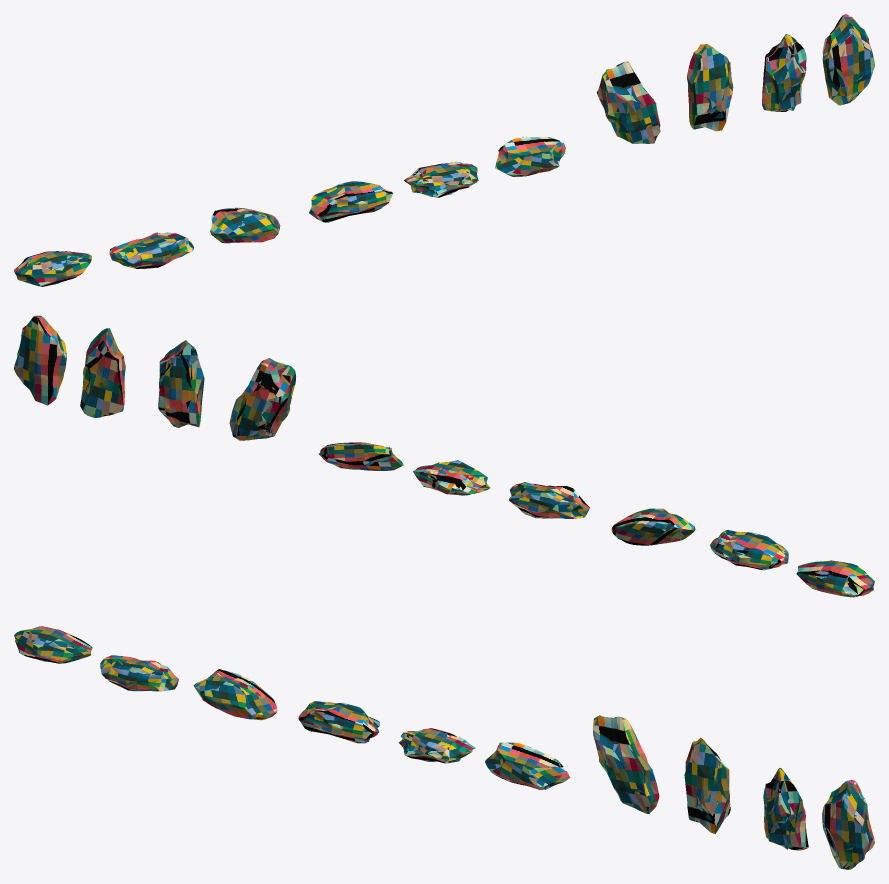
The model's file is boss_rocks.FBX.
3 renders of one model, top to bottom at view 1: azimuth 30°, elevation 25°; view 2: azimuth 150°, elevation 25°; view 3: azimuth 330°, elevation 25°, orthographic.
Visible parts, largest first — view 1: GeoSphere006, GeoSphere009, GeoSphere007, GeoSphere008, GeoSphere011, GeoSphere013, GeoSphere004, GeoSphere005, GeoSphere003, GeoSphere012; view 2: GeoSphere006, GeoSphere009, GeoSphere007, GeoSphere008, GeoSphere011, GeoSphere005, GeoSphere004, GeoSphere003, GeoSphere012, GeoSphere013; view 3: GeoSphere006, GeoSphere009, GeoSphere007, GeoSphere008, GeoSphere005, GeoSphere013, GeoSphere011, GeoSphere004, GeoSphere003, GeoSphere012.
Part boxes in pixels (bbox=[...]): GeoSphere006: bbox=[597, 61, 660, 143]; GeoSphere009: bbox=[822, 14, 874, 105]; GeoSphere007: bbox=[687, 44, 733, 131]; GeoSphere008: bbox=[762, 34, 806, 111]; GeoSphere011: bbox=[309, 181, 392, 222]; GeoSphere013: bbox=[495, 136, 565, 176]; GeoSphere004: bbox=[109, 232, 193, 269]; GeoSphere005: bbox=[210, 207, 280, 243]; GeoSphere003: bbox=[14, 251, 91, 286]; GeoSphere012: bbox=[404, 161, 478, 197]; GeoSphere006: bbox=[229, 358, 295, 440]; GeoSphere009: bbox=[14, 315, 66, 405]; GeoSphere007: bbox=[158, 340, 204, 427]; GeoSphere008: bbox=[80, 328, 125, 417]; GeoSphere011: bbox=[509, 482, 589, 518]; GeoSphere005: bbox=[611, 508, 695, 545]; GeoSphere004: bbox=[710, 530, 788, 570]; GeoSphere003: bbox=[796, 560, 874, 597]; GeoSphere012: bbox=[413, 460, 490, 495]; GeoSphere013: bbox=[318, 442, 403, 470]; GeoSphere006: bbox=[593, 715, 659, 813]; GeoSphere009: bbox=[822, 780, 874, 869]; GeoSphere007: bbox=[684, 737, 730, 833]; GeoSphere008: bbox=[763, 768, 808, 850]; GeoSphere005: bbox=[193, 669, 277, 720]; GeoSphere013: bbox=[485, 742, 570, 789]; GeoSphere011: bbox=[298, 701, 379, 743]; GeoSphere004: bbox=[100, 655, 178, 691]; GeoSphere003: bbox=[14, 626, 92, 663]; GeoSphere012: bbox=[398, 728, 475, 763].
Size of the model in its own units: 4916 by 538 by 329.
